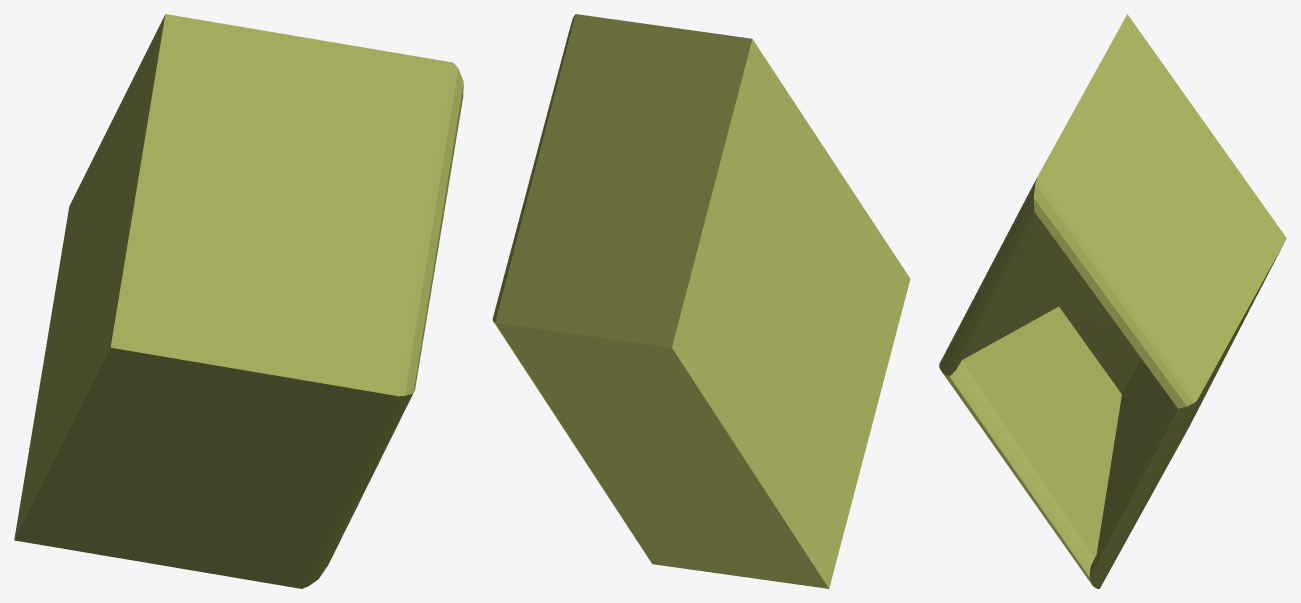
The model's file is TR4_8shapes_Kite_Classic_Metal.001 2.glb.
3 renders of one model, left to right at view 1: azimuth 30°, elevation 25°; view 2: azimuth 150°, elevation 25°; view 3: azimuth 270°, elevation 25°, orthographic. The views are drawn at different scales.
Parts seen in each view (by area): view 1: TR4_8shapes_Kite_Classic_Metal.001; view 2: TR4_8shapes_Kite_Classic_Metal.001; view 3: TR4_8shapes_Kite_Classic_Metal.001.
Boxes of the visible parts, x1,y1,x2,y2 form: TR4_8shapes_Kite_Classic_Metal.001: [14, 14, 463, 588]; TR4_8shapes_Kite_Classic_Metal.001: [492, 14, 910, 588]; TR4_8shapes_Kite_Classic_Metal.001: [939, 14, 1286, 588].
Bounding box in the file's own units: 0.4205 × 0.6598 × 0.3974.
